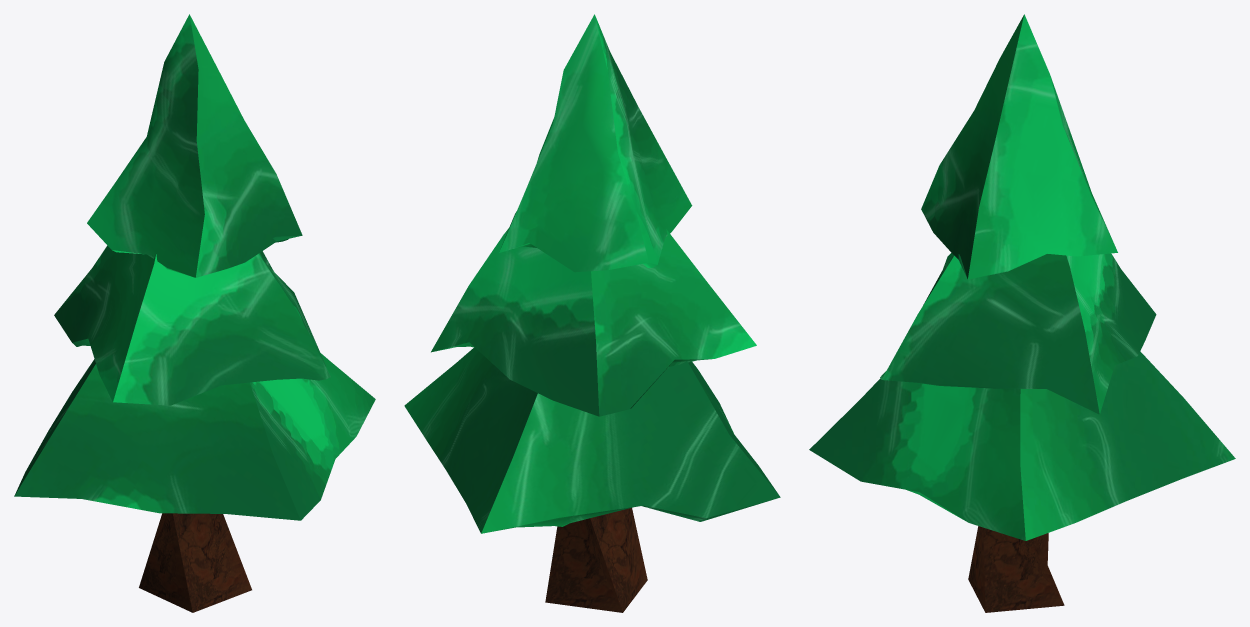
The model's file is TreeStack4.1.fbx.
3 views of the same model, side by side, from view 1: azimuth 30°, elevation 25°; view 2: azimuth 150°, elevation 25°; view 3: azimuth 270°, elevation 25° (orthographic).
Visible parts, largest first — view 1: polymsh; view 2: polymsh; view 3: polymsh.
Part boxes in pixels (x1=…): polymsh: x1=14, y1=14, x2=375, y2=612; polymsh: x1=404, y1=14, x2=780, y2=612; polymsh: x1=809, y1=14, x2=1235, y2=612.
Size of the model in its own units: 56.03 by 83.66 by 56.03.
